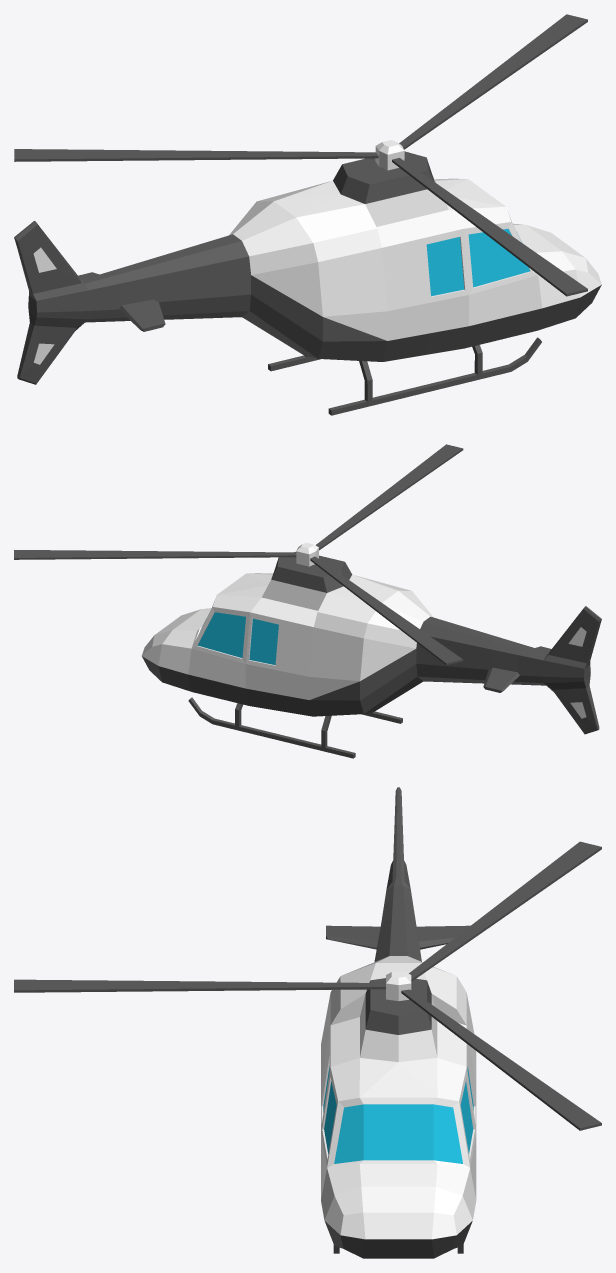
The model's file is helicopter.glb.
3 views of the same model, one above another, from view 1: azimuth 30°, elevation 25°; view 2: azimuth 150°, elevation 25°; view 3: azimuth 270°, elevation 25° (orthographic). The views are drawn at different scales.
Parts seen in each view (by area): view 1: Cube; view 2: Cube; view 3: Cube.
Boxes of the visible parts, x1,y1,x2,y2 form: Cube: (14, 14, 601, 415); Cube: (14, 444, 601, 758); Cube: (14, 787, 601, 1258).
Bounding box in the file's own units: 29.34 × 10 × 22.02.
